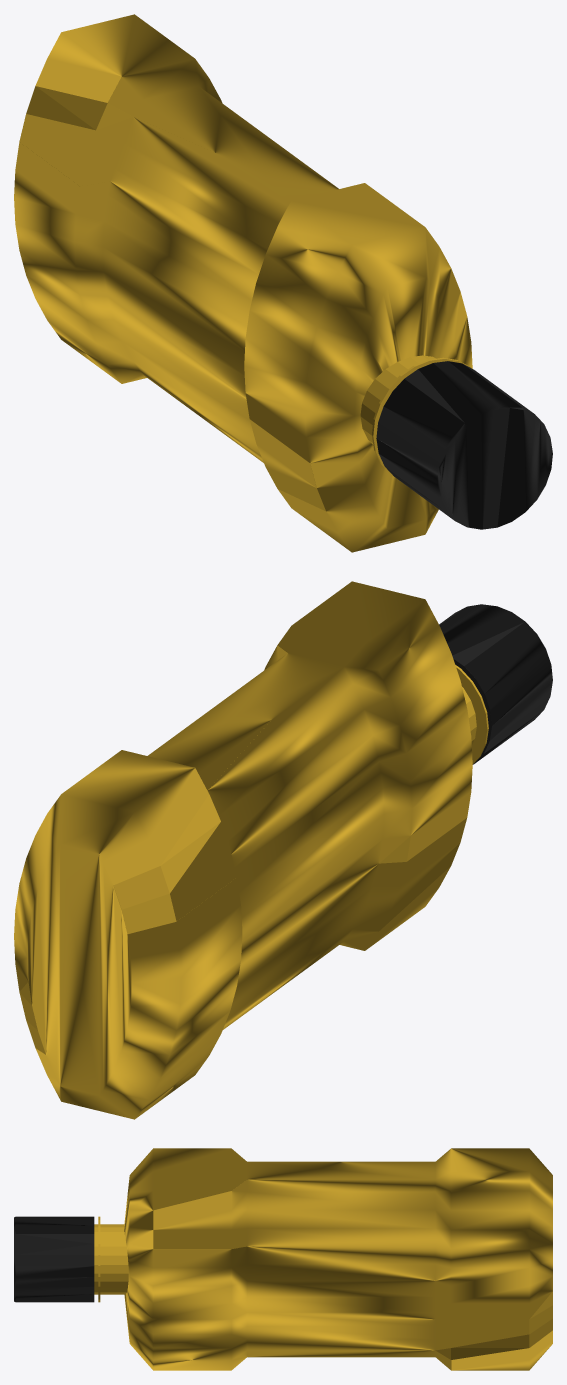
The model's file is model_align.obj.
3 views of the same model, one above another, from view 1: azimuth 30°, elevation 25°; view 2: azimuth 150°, elevation 25°; view 3: azimuth 270°, elevation 25° (orthographic). The views are drawn at different scales.
Size of the model in its own units: 0.0461 by 0.0807 by 0.1983.
